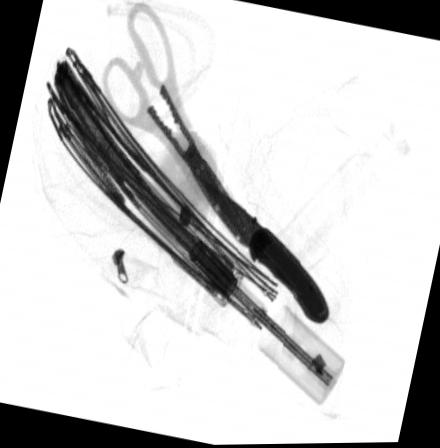Knife: (204, 176, 329, 323)
Scissors: (102, 0, 254, 249)
